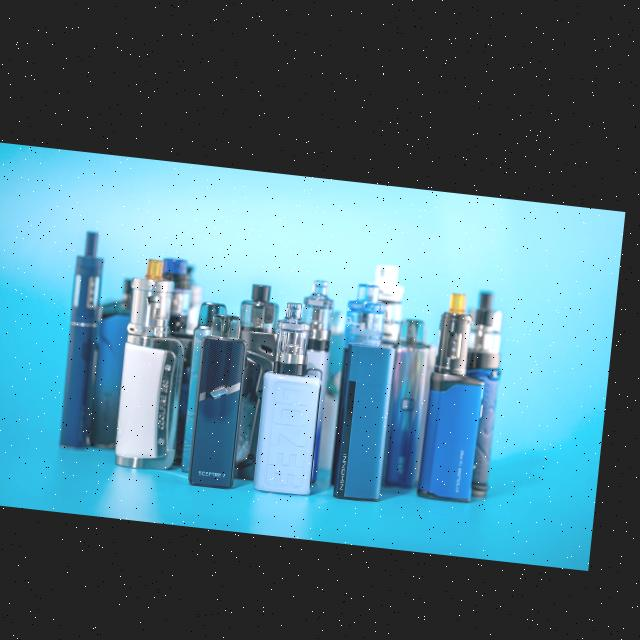vape: (122, 253, 200, 468), (339, 272, 408, 492), (428, 279, 499, 491), (261, 291, 336, 488), (460, 278, 515, 486), (196, 306, 257, 483), (65, 225, 112, 447), (390, 305, 441, 478), (95, 272, 138, 445), (303, 267, 343, 342), (244, 275, 287, 325)
